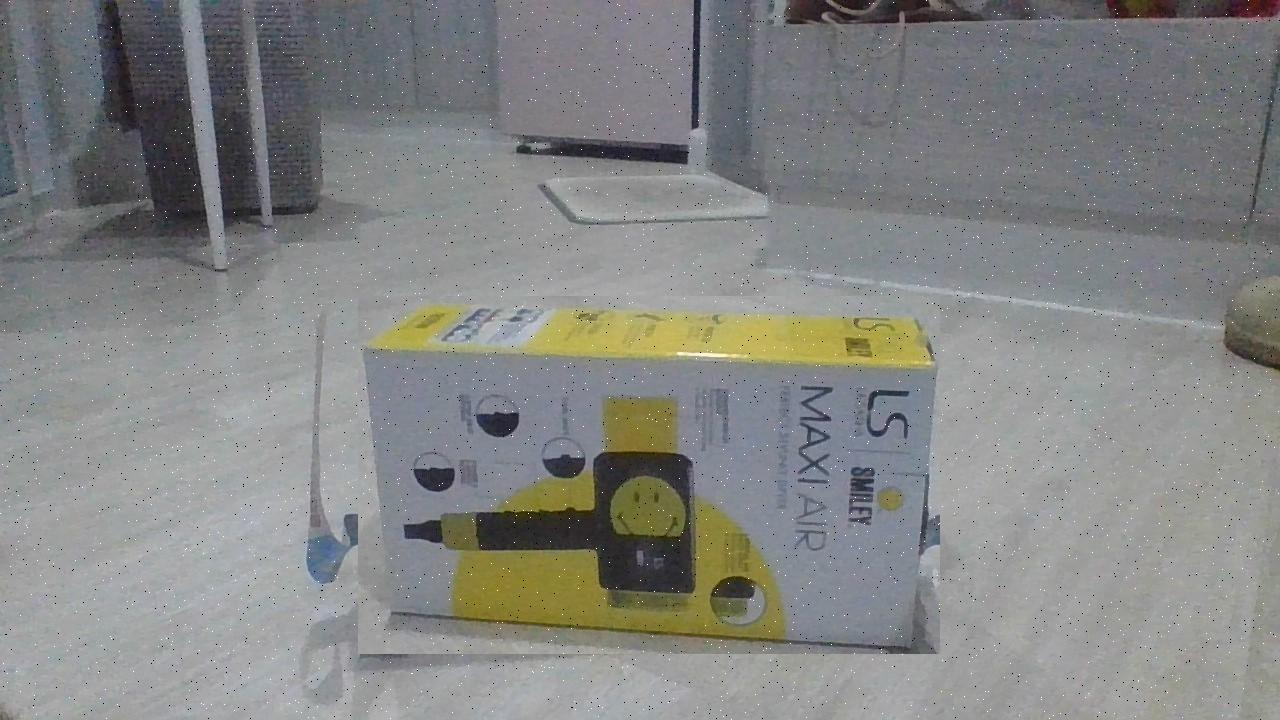Dryer: (358, 296, 940, 654)
